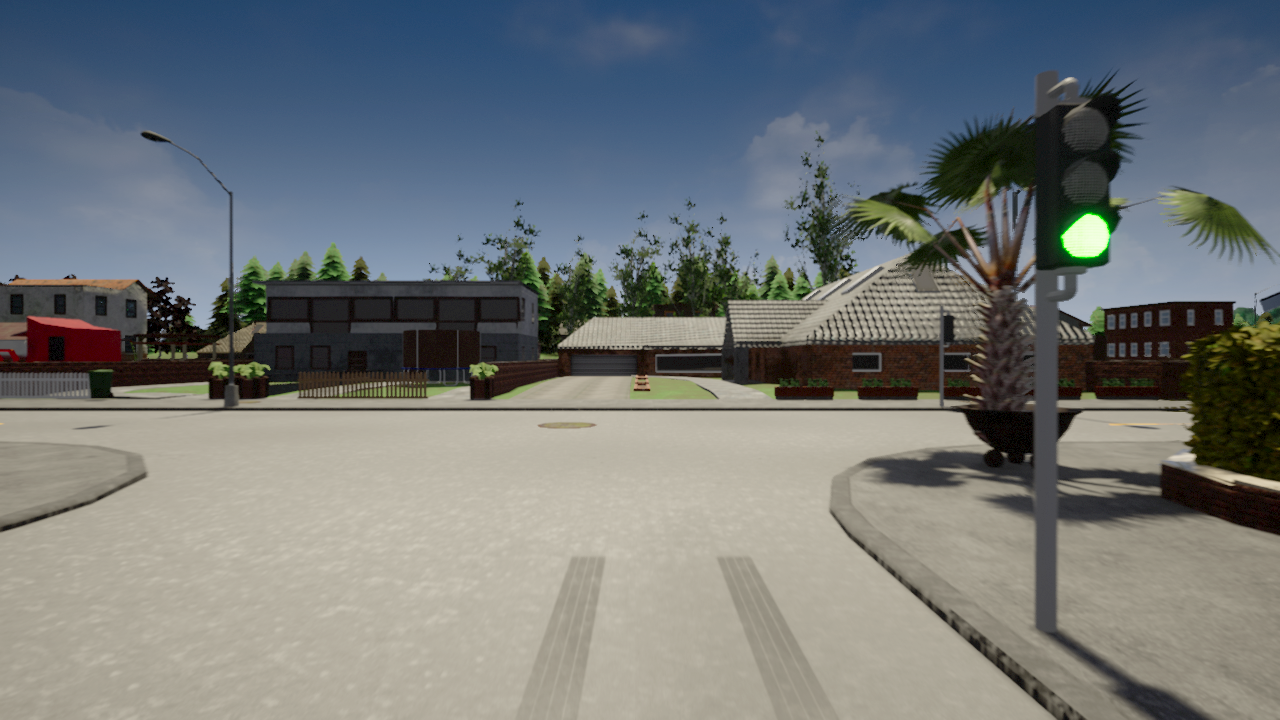green: (1032, 96, 1114, 269)
